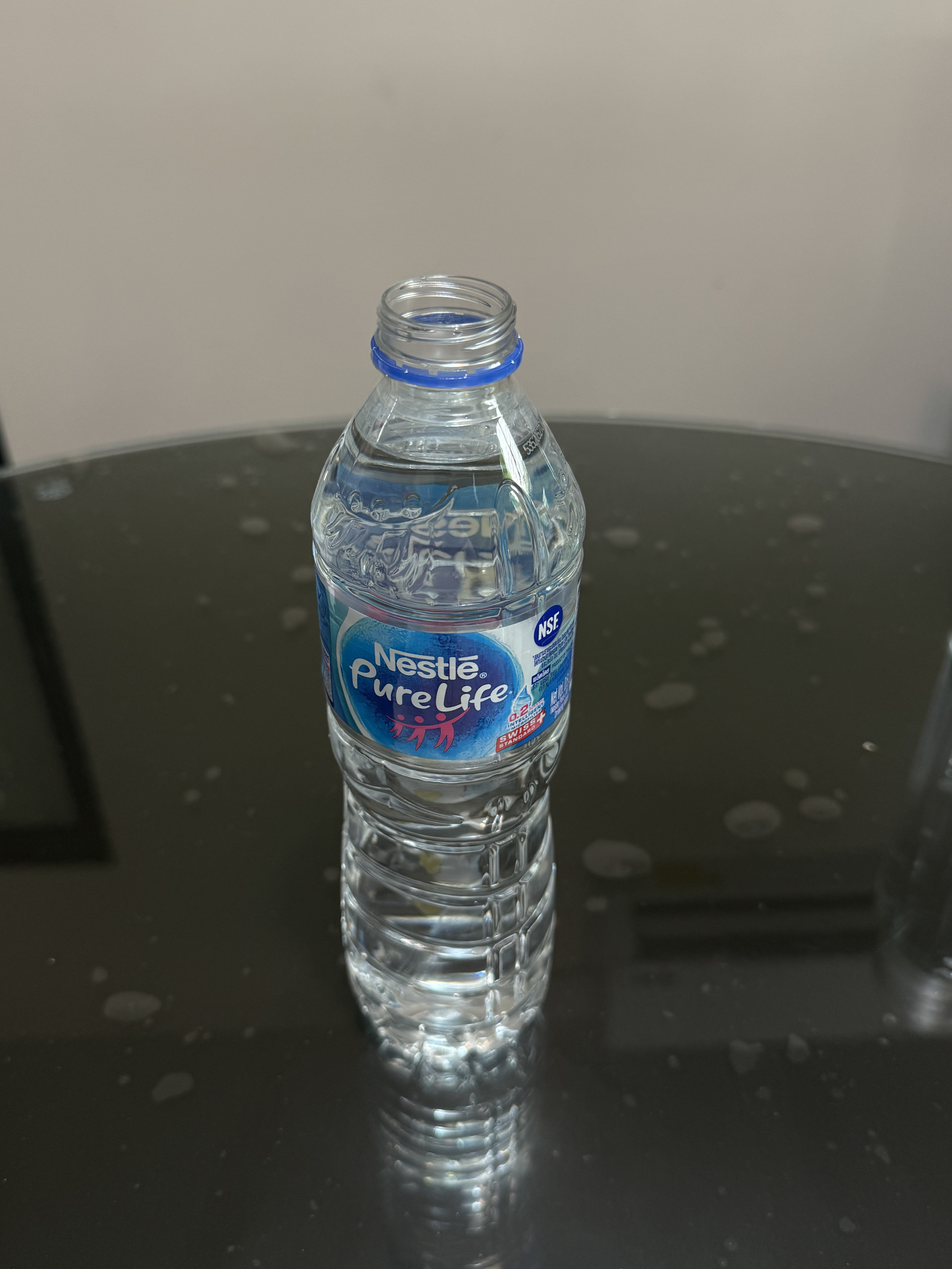no_cap: (365, 270, 528, 391)
